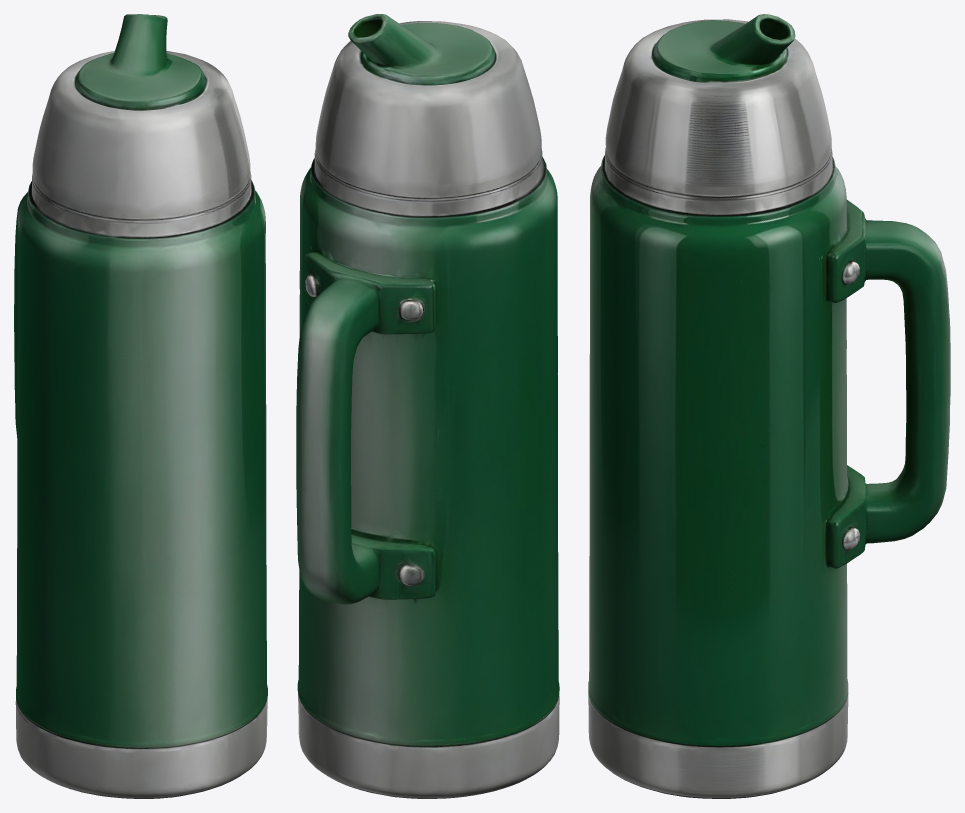
Rendered from termo.glb.
3 renders of one model, left to right at view 1: azimuth 30°, elevation 25°; view 2: azimuth 150°, elevation 25°; view 3: azimuth 270°, elevation 25°, orthographic. The views are drawn at different scales.
Visible parts, largest first — view 1: tripo_node_d841fec0-bbc2-455e-a7ab-1a75e008d9f8; view 2: tripo_node_d841fec0-bbc2-455e-a7ab-1a75e008d9f8; view 3: tripo_node_d841fec0-bbc2-455e-a7ab-1a75e008d9f8.
Boxes of the visible parts, bbox=[...] form: tripo_node_d841fec0-bbc2-455e-a7ab-1a75e008d9f8: bbox=[14, 14, 267, 798]; tripo_node_d841fec0-bbc2-455e-a7ab-1a75e008d9f8: bbox=[296, 14, 559, 798]; tripo_node_d841fec0-bbc2-455e-a7ab-1a75e008d9f8: bbox=[588, 14, 950, 798].
Bounding box in the file's own units: 0.3201 × 1 × 0.4402.
Materials: 1 (1 with a texture image).
